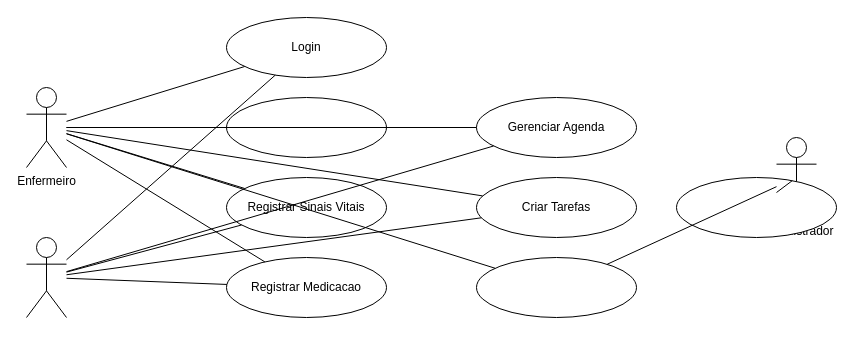
This 854x356 diagram has some shape labels left out. The shapes that lost their labels are listed below. From the top down, each one's centre as x and y in pixels, then its label:
pixel 306 127: Cadastrar Paciente
pixel 756 207: Gerenciar Usuarios
pixel 46 277: Cuidador
pixel 556 287: Gerar Relatorio
